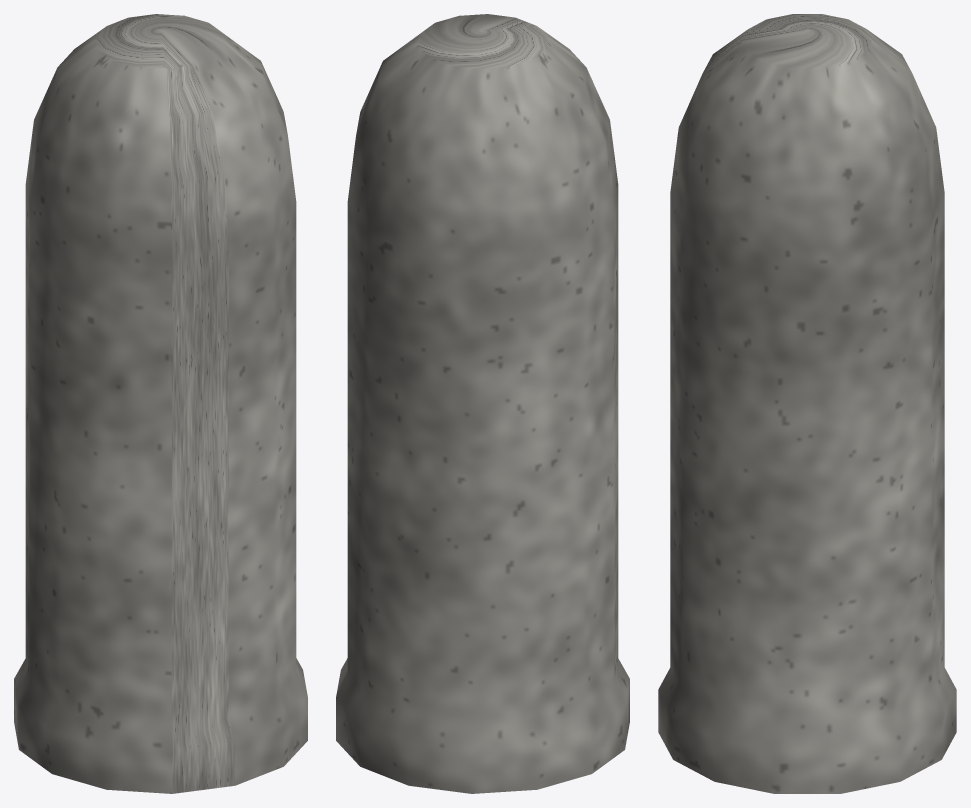
Rendered from SM_Morin_Dissuasore.fbx.
3 views of the same model, side by side, from view 1: azimuth 30°, elevation 25°; view 2: azimuth 150°, elevation 25°; view 3: azimuth 270°, elevation 25° (orthographic).
Visible parts, largest first — view 1: SM_Morin_Dissuasore; view 2: SM_Morin_Dissuasore; view 3: SM_Morin_Dissuasore.
Boxes of the visible parts, <box> form: SM_Morin_Dissuasore: <box>14,14,307,793</box>; SM_Morin_Dissuasore: <box>336,14,629,793</box>; SM_Morin_Dissuasore: <box>658,14,956,793</box>.
Size of what is drawn, in the model's own units: 24.37 by 25 by 65.
1 material, 1 textured.
